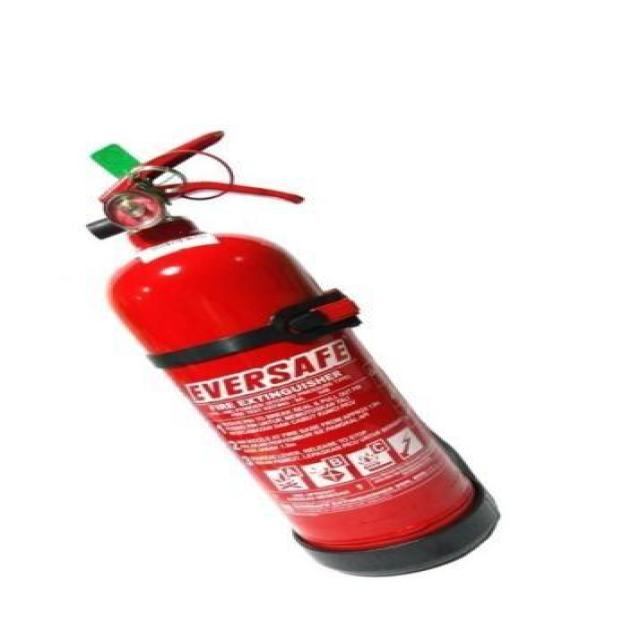fire_extinguisher: (74, 126, 508, 580)
